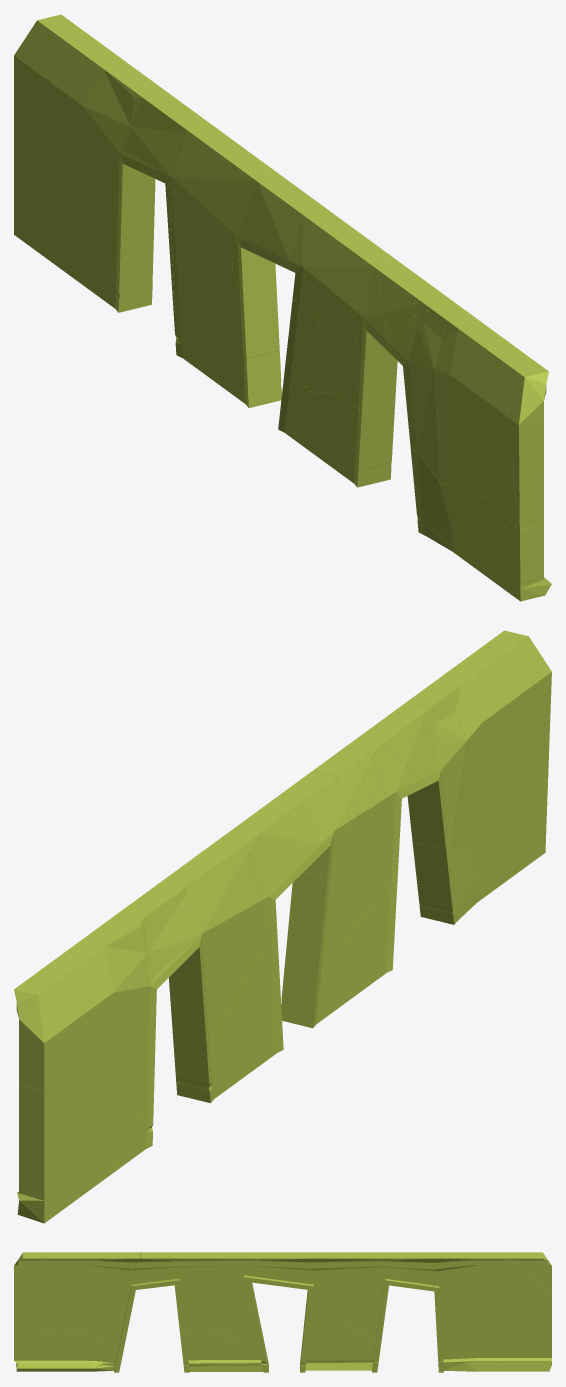
File: Mur_20M_fracture.fbx
3 views of the same model, one above another, from view 1: azimuth 30°, elevation 25°; view 2: azimuth 150°, elevation 25°; view 3: azimuth 270°, elevation 25° (orthographic). The views are drawn at different scales.
Visible parts, largest first — view 1: Mur_Porte20M_cell, Mur_Porte20M_cell.016, Mur_Porte20M_cell.008, Mur_Porte20M_cell.002, Mur_Porte20M_cell.009, Mur_Porte20M_cell.004, Mur_Porte20M_cell.022, Mur_Porte20M_cell.021, Mur_Porte20M_cell.025, Mur_Porte20M_cell.018, Mur_Porte20M_cell.013, Mur_Porte20M_cell.012 (+16 smaller); view 2: Mur_Porte20M_cell, Mur_Porte20M_cell.008, Mur_Porte20M_cell.016, Mur_Porte20M_cell.018, Mur_Porte20M_cell.009, Mur_Porte20M_cell.025, Mur_Porte20M_cell.002, Mur_Porte20M_cell.004, Mur_Porte20M_cell.022, Mur_Porte20M_cell.014, Mur_Porte20M_cell.010, Mur_Porte20M_cell.013 (+16 smaller); view 3: Mur_Porte20M_cell, Mur_Porte20M_cell.016, Mur_Porte20M_cell.008, Mur_Porte20M_cell.002, Mur_Porte20M_cell.013, Mur_Porte20M_cell.004, Mur_Porte20M_cell.009, Mur_Porte20M_cell.022, Mur_Porte20M_cell.025, Mur_Porte20M_cell.018, Mur_Porte20M_cell.024, Mur_Porte20M_cell.010 (+16 smaller).
Part boxes in pixels (x1,y1,x2,y2): Mur_Porte20M_cell: [54, 37, 160, 283]; Mur_Porte20M_cell.016: [169, 121, 266, 301]; Mur_Porte20M_cell.008: [14, 48, 65, 268]; Mur_Porte20M_cell.002: [436, 483, 551, 601]; Mur_Porte20M_cell.009: [231, 165, 326, 299]; Mur_Porte20M_cell.004: [434, 314, 498, 487]; Mur_Porte20M_cell.022: [463, 335, 527, 512]; Mur_Porte20M_cell.021: [507, 366, 548, 528]; Mur_Porte20M_cell.025: [396, 309, 469, 483]; Mur_Porte20M_cell.018: [123, 87, 206, 302]; Mur_Porte20M_cell.013: [174, 277, 237, 392]; Mur_Porte20M_cell.012: [354, 255, 401, 412]; Mur_Porte20M_cell: [45, 916, 157, 1188]; Mur_Porte20M_cell.008: [17, 978, 91, 1223]; Mur_Porte20M_cell.016: [160, 838, 264, 1052]; Mur_Porte20M_cell.018: [114, 882, 207, 1054]; Mur_Porte20M_cell.009: [221, 794, 322, 948]; Mur_Porte20M_cell.025: [407, 688, 470, 849]; Mur_Porte20M_cell.002: [465, 779, 547, 913]; Mur_Porte20M_cell.004: [425, 667, 500, 844]; Mur_Porte20M_cell.022: [454, 646, 530, 805]; Mur_Porte20M_cell.014: [14, 967, 70, 1091]; Mur_Porte20M_cell.010: [287, 860, 368, 947]; Mur_Porte20M_cell.013: [208, 943, 269, 1096]; Mur_Porte20M_cell: [433, 1252, 510, 1371]; Mur_Porte20M_cell.016: [318, 1252, 387, 1344]; Mur_Porte20M_cell.008: [501, 1260, 551, 1371]; Mur_Porte20M_cell.002: [14, 1327, 103, 1371]; Mur_Porte20M_cell.013: [313, 1308, 379, 1370]; Mur_Porte20M_cell.004: [65, 1252, 106, 1336]; Mur_Porte20M_cell.009: [258, 1252, 323, 1316]; Mur_Porte20M_cell.022: [33, 1252, 76, 1329]; Mur_Porte20M_cell.025: [97, 1252, 143, 1337]; Mur_Porte20M_cell.018: [380, 1252, 436, 1345]; Mur_Porte20M_cell.024: [189, 1329, 243, 1371]; Mur_Porte20M_cell.010: [208, 1290, 260, 1339].
Size of the model in its own units: 97.11 by 500 by 2105.
